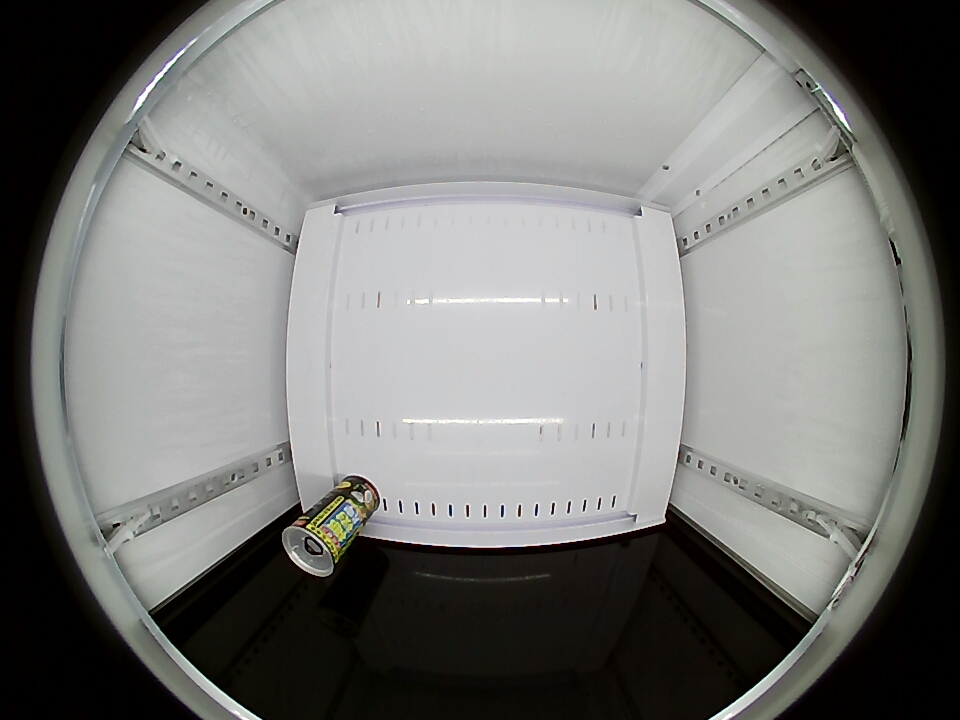yezhi: (282, 514, 346, 577)
